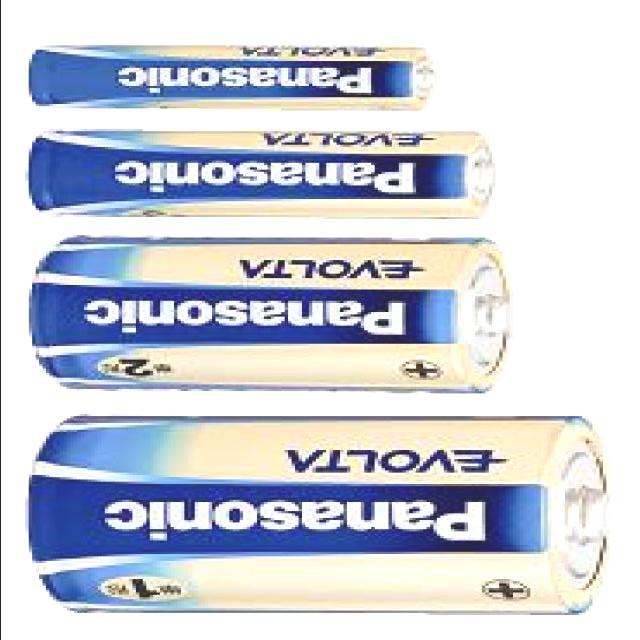AA: (27, 231, 520, 398)
AAA: (22, 129, 499, 220)
